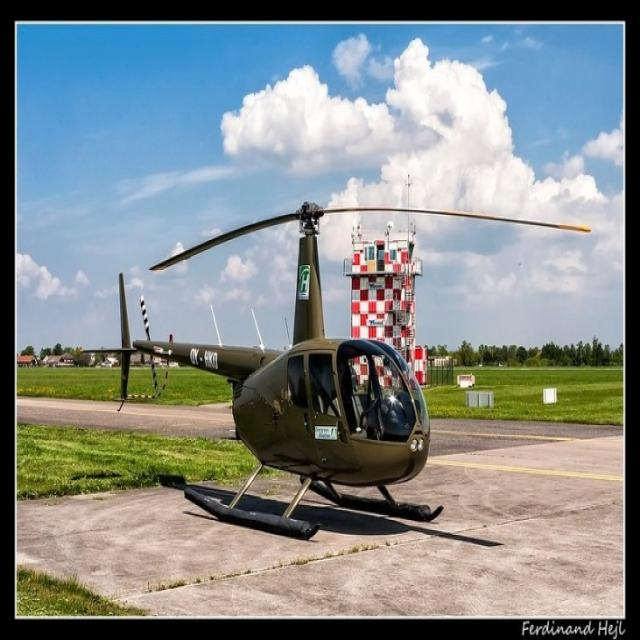CIV_HELO: (79, 198, 446, 544)
